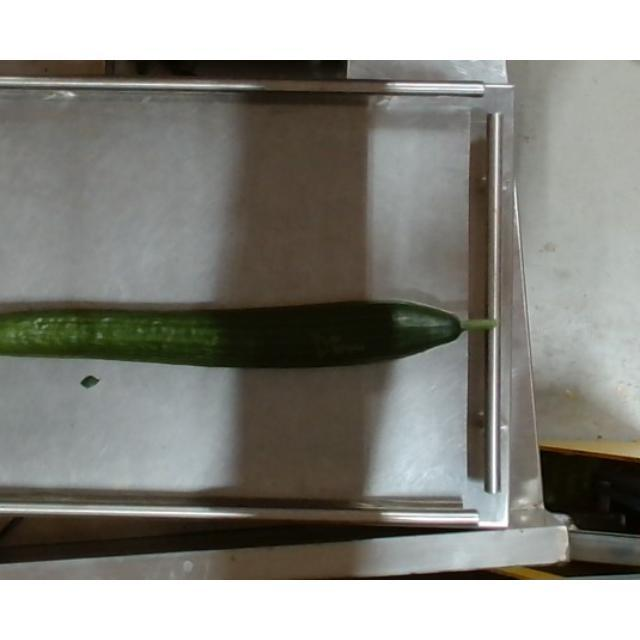cucumber: (1, 300, 506, 372)
